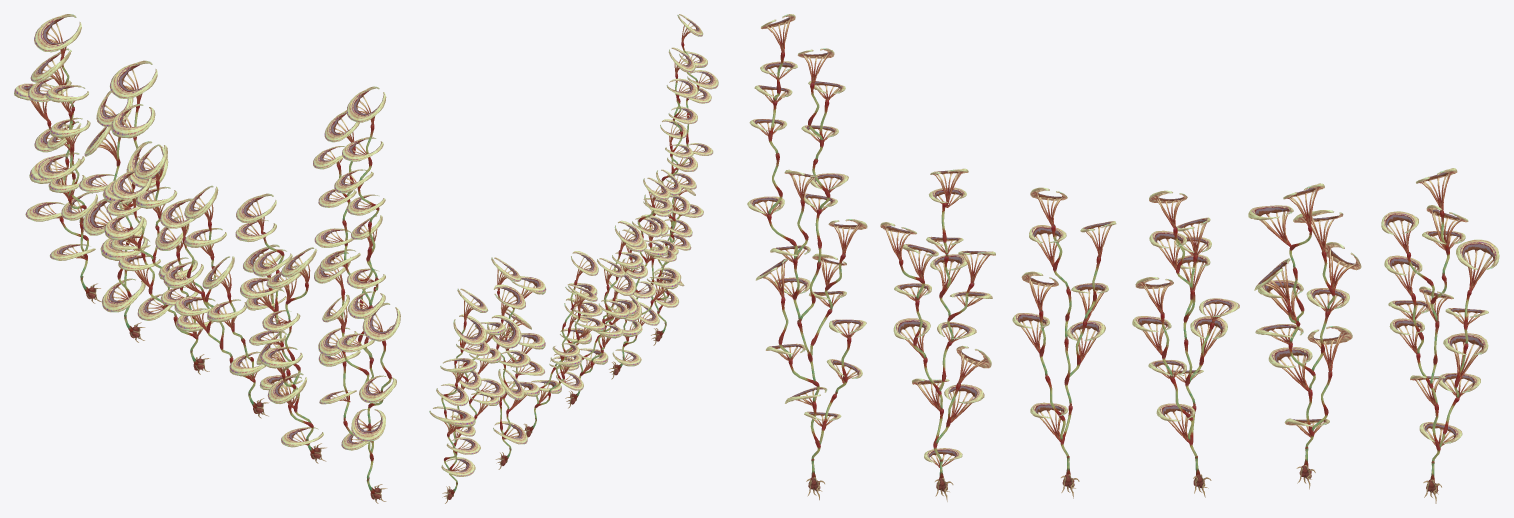
Rendered from crescent_moon_coral.glb.
The picture shows the model from 3 angles, left to right: view 1: azimuth 30°, elevation 25°; view 2: azimuth 150°, elevation 25°; view 3: azimuth 270°, elevation 25°; orthographic projection. The views are drawn at different scales.
Parts seen in each view (by area): view 1: twistybridges_cliffplant_medium_01_Combined_LOD0_Material.00; view 2: twistybridges_cliffplant_medium_01_Combined_LOD0_Material.00; view 3: twistybridges_cliffplant_medium_01_Combined_LOD0_Material.00.
Part boxes in pixels (box(x1,y1,x2,y2)): twistybridges_cliffplant_medium_01_Combined_LOD0_Material.00: box(14, 14, 400, 503); twistybridges_cliffplant_medium_01_Combined_LOD0_Material.00: box(429, 14, 718, 503); twistybridges_cliffplant_medium_01_Combined_LOD0_Material.00: box(747, 14, 1499, 503).
Size of the model in its own units: 0.1075 by 0.422 by 0.5987.
1 material, 1 textured.
